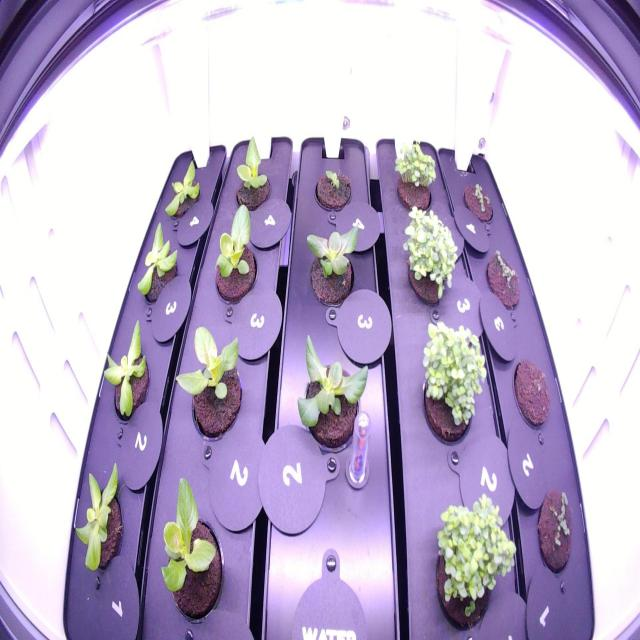germination: (530, 475, 578, 587), (389, 130, 444, 219), (480, 242, 526, 318), (306, 163, 356, 221), (458, 174, 498, 233)
pod: (508, 349, 555, 436)
young: (152, 470, 234, 629), (288, 331, 374, 464), (168, 315, 248, 447), (67, 453, 128, 586), (296, 215, 364, 322), (99, 312, 155, 431), (208, 198, 262, 309), (133, 215, 186, 313), (222, 128, 276, 222), (156, 151, 208, 229)
